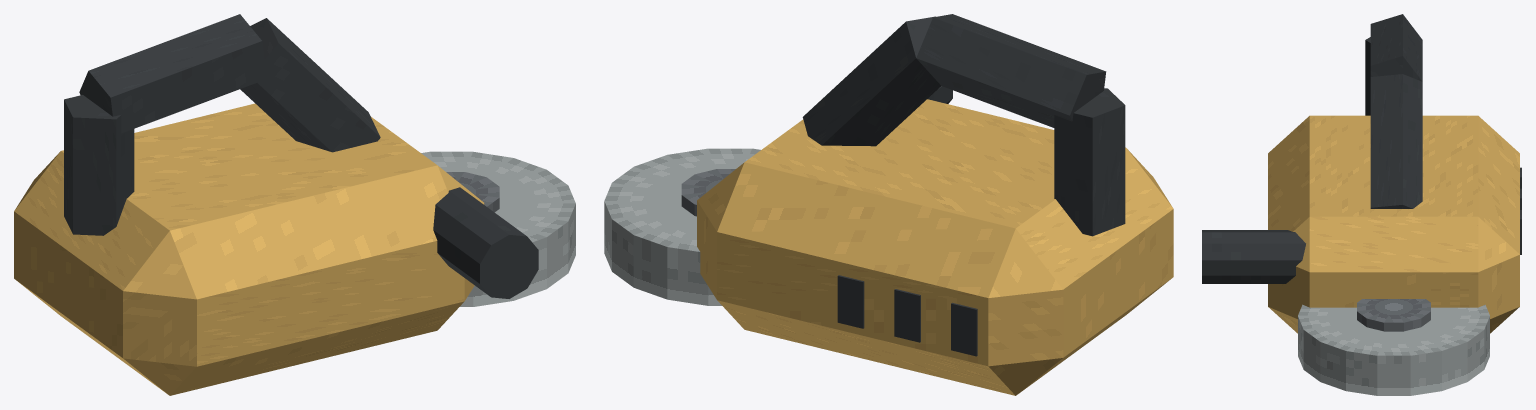
Rendered from angle_grinder.glb.
3 views of the same model, side by side, from view 1: azimuth 30°, elevation 25°; view 2: azimuth 150°, elevation 25°; view 3: azimuth 270°, elevation 25° (orthographic). The views are drawn at different scales.
Parts seen in each view (by area): view 1: block_motor body, block_operator handle 1, block_operator handle 2, block_working disc, block_operator handle 0, block_side grip, block_center fastener; view 2: block_motor body, block_working disc, block_operator handle 1, block_operator handle 2, block_operator handle 0, block_cooling slot (×3), block_center fastener; view 3: block_motor body, block_working disc, block_operator handle 2, block_side grip, block_operator handle 1, block_center fastener, block_operator handle 0.
Part boxes in pixels (x1,y1,x2,y2): block_motor body: (14,103,484,395); block_operator handle 1: (79,14,266,133); block_operator handle 2: (240,18,380,152); block_working disc: (421,151,575,306); block_operator handle 0: (64,95,134,235); block_side grip: (433,187,538,298); block_center fastener: (446,172,499,212); block_motor body: (697,99,1173,395); block_working disc: (604,148,760,305); block_operator handle 1: (916,14,1106,127); block_operator handle 2: (802,16,940,146); block_operator handle 0: (1054,88,1125,236); block_cooling slot (×3): (837,275,977,356); block_center fastener: (681,169,735,216); block_motor body: (1268,115,1519,333); block_working disc: (1298,304,1489,395); block_operator handle 2: (1370,74,1422,208); block_side grip: (1202,230,1305,283); block_operator handle 1: (1370,14,1422,81); block_center fastener: (1357,299,1430,331); block_operator handle 0: (1365,37,1370,115).
Bounding box in the file's own units: 0.2266 × 0.1351 × 0.1655.
Materials: 1 (1 with a texture image).
